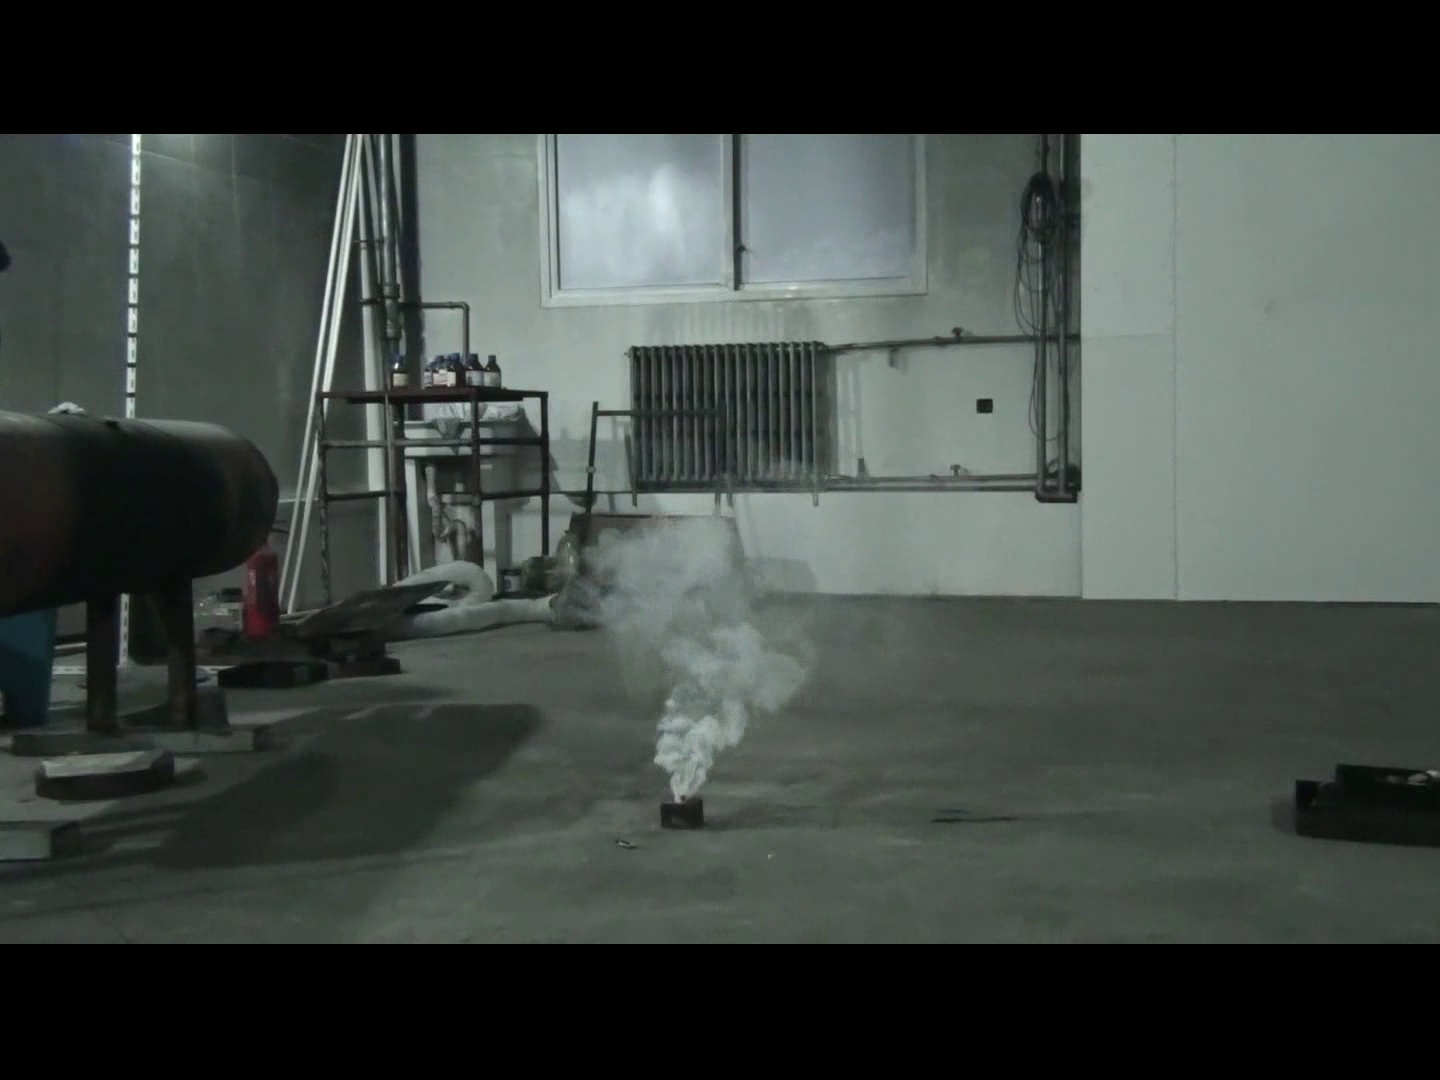smoke: (568, 499, 842, 798)
